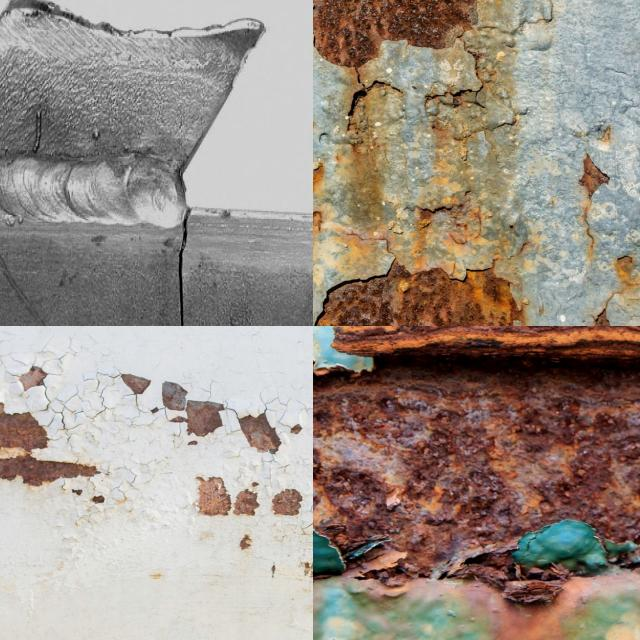Crack: (175, 207, 190, 326)
Pitting Corrosion: (313, 357, 640, 574), (313, 0, 476, 67)
Uniform Corrosion: (332, 326, 640, 360), (0, 453, 99, 486), (0, 402, 47, 451), (239, 413, 281, 453), (186, 400, 224, 436), (196, 477, 231, 516), (272, 489, 302, 516), (233, 489, 259, 515), (162, 382, 186, 410), (121, 374, 150, 394)
